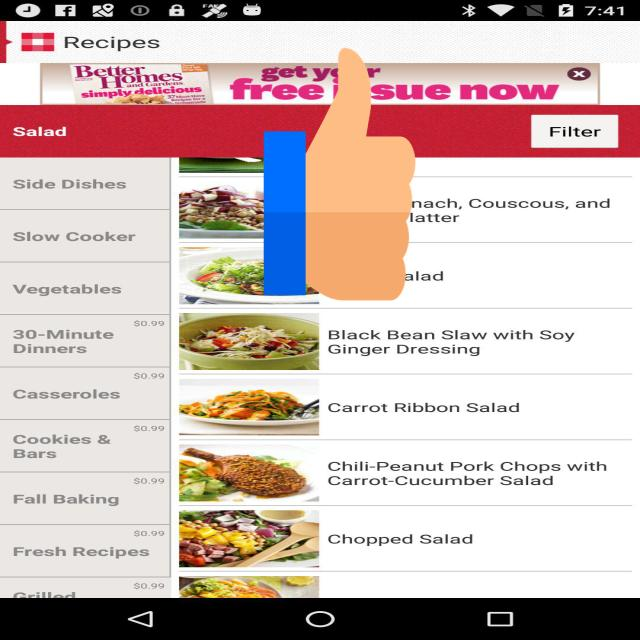privacy zuckering: (264, 41, 415, 306)
